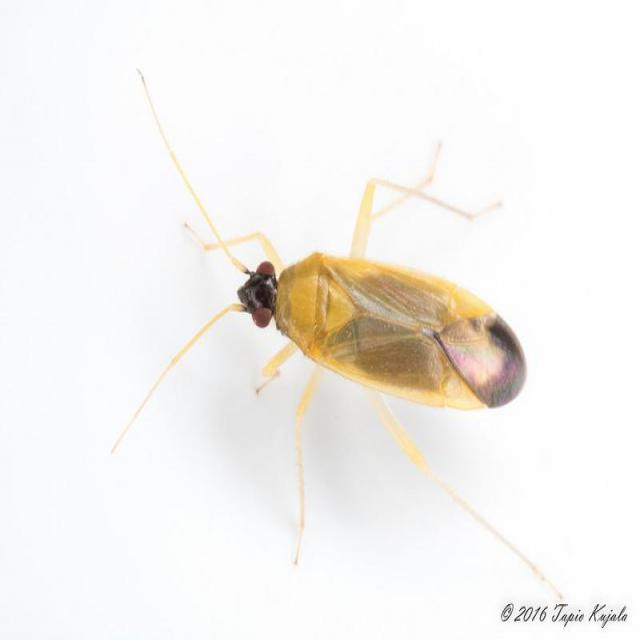Miridae-Adult-: (99, 53, 570, 550)
